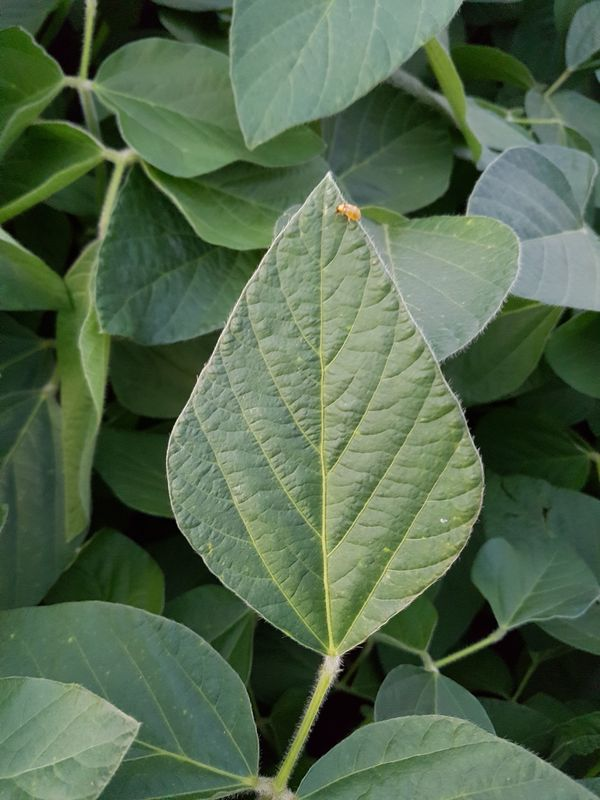Diabrotica_speciosa: (327, 189, 371, 231)
